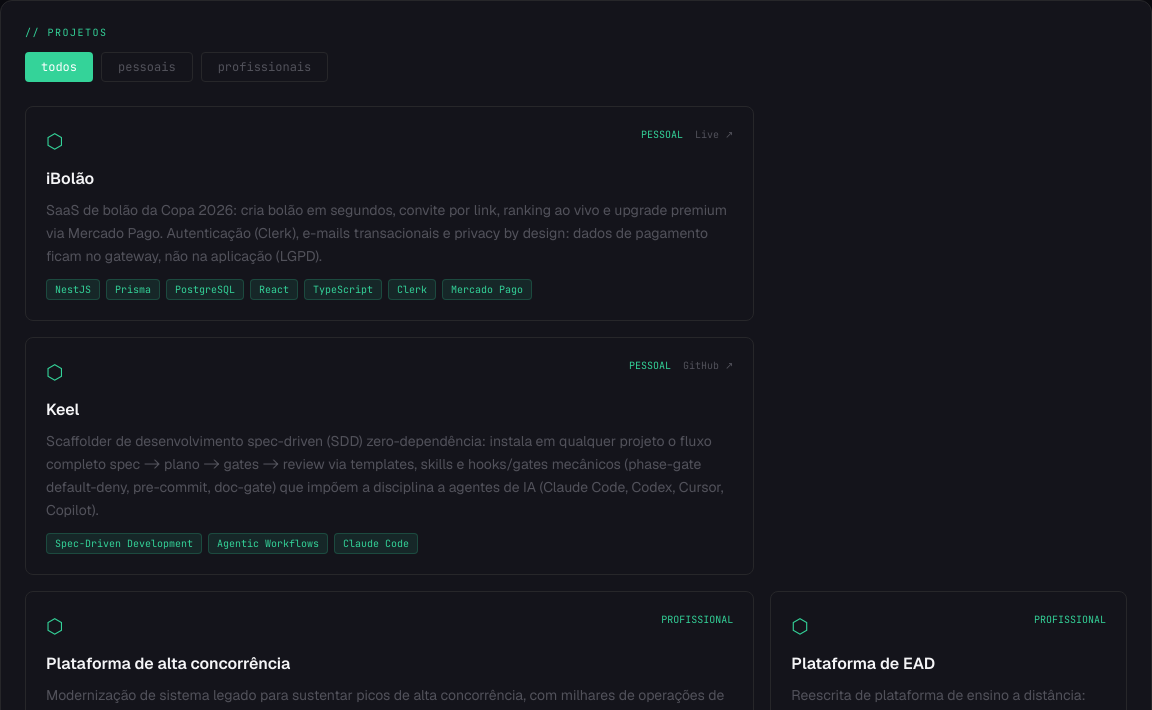
Test: Projects › filtrar por "profissional" esconde os pessoais
Click the button "profissionais" at (264, 67), box [201,52,328,82]
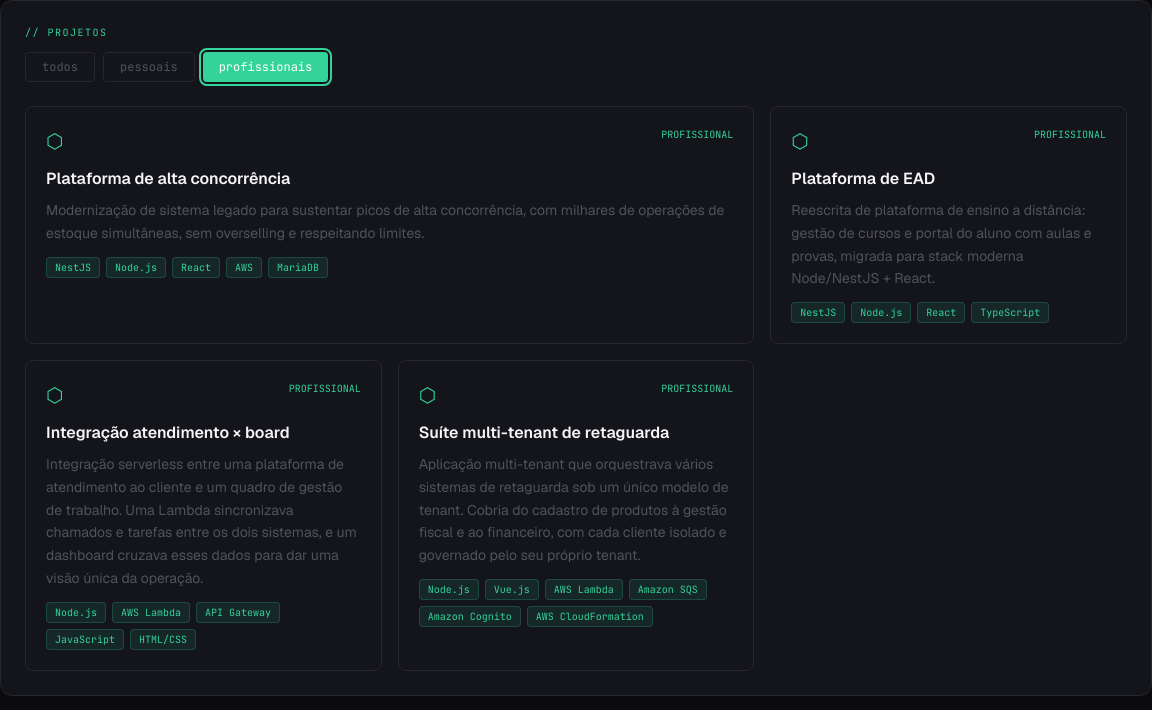
Expected: the heading "Plataforma de EAD" is shown, [791,168,935,189]
Now the heading "iBolão" is gone
